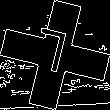L_S: (34, 27, 76, 83)
